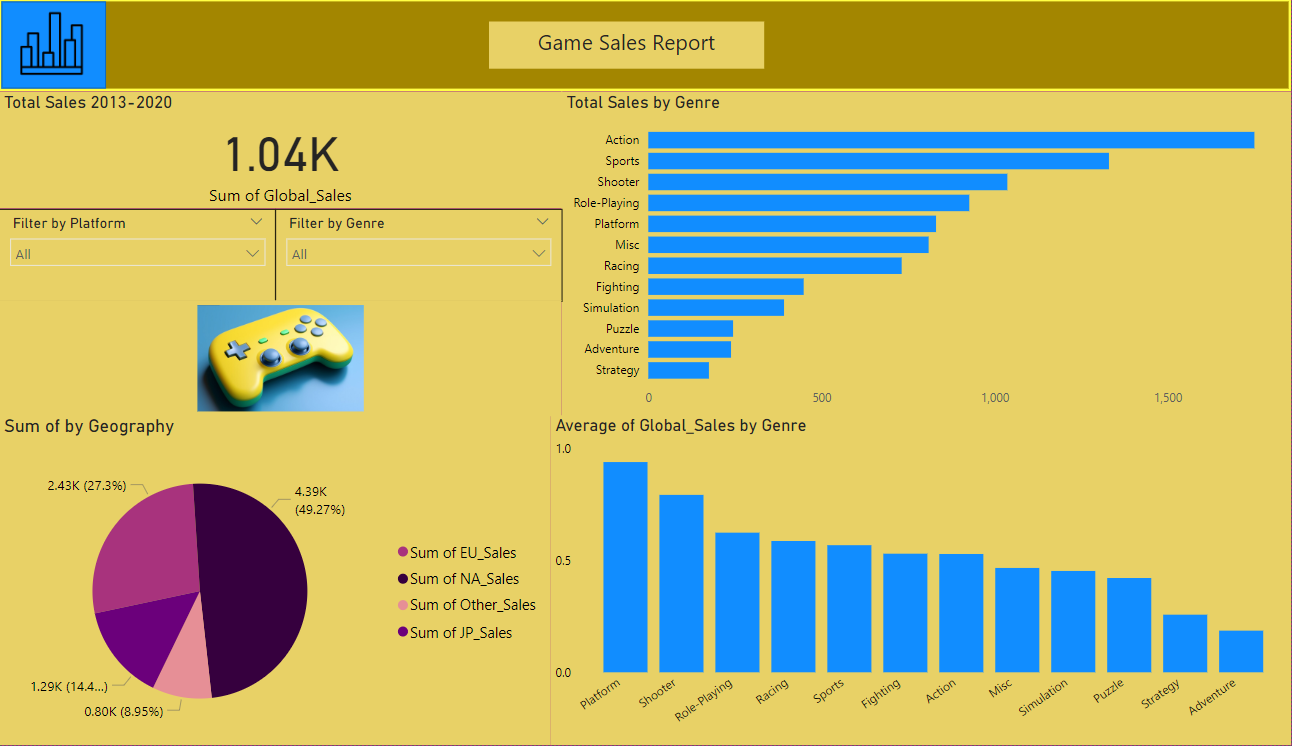

This screenshot's page, from the dashboard's own definition file:
{"tool":"powerbi","page":{"name":"GameWorld","canvas":[1292,746],"ordinal":0},"visuals":[{"type":"textbox","box":[0,0,1292.2,91.9],"z":0},{"type":"shape","box":[2,2,104.5,87],"z":1000},{"type":"image","box":[0,5.9,104.5,77.5],"z":2000},{"type":"textbox","box":[489.8,22.3,274.9,47],"z":3000},{"type":"clusteredBarChart","title":" Total Sales by Genre","fields":{"Category":["Sheet1.Genre"],"Y":["Sum(Sheet1.Global_Sales)"]},"box":[562.5,92.5,730,325],"z":4000},{"type":"card","title":"Total Sales 2013-2020","fields":{"Values":["Sum(Sheet1.Global_Sales)"]},"box":[0,93.1,563.1,116.6],"z":5000},{"type":"pieChart","title":"Sum of by Geography","fields":{"Y":["Sum(Sheet1.EU_Sales)","Sum(Sheet1.NA_Sales)","Sum(Sheet1.Other_Sales)","Sum(Sheet1.JP_Sales)"]},"box":[0,416.2,551.2,331.2],"z":6000},{"type":"clusteredColumnChart","fields":{"Category":["Films.Genre"],"Y":["Avg(Films.Global_Sales)"]},"box":[551.2,416.2,741.2,331.2],"z":7000},{"type":"slicer","fields":{"Values":["Films.Genre"]},"box":[276,210,287,93],"z":8000},{"type":"slicer","fields":{"Values":["Films.Platform"]},"box":[0,210,277,93],"z":9000},{"type":"image","box":[0,301.2,562.5,116.2],"z":10000}]}

Visuals, with their boxes in screenshot pixels (x1, y1, x2, y2), scaled from the page's 1292x746 canvas onto the 1292x746 screenshot:
textbox: [x1=0, y1=0, x2=1291, y2=92]
shape: [x1=2, y1=2, x2=106, y2=89]
image: [x1=0, y1=6, x2=104, y2=83]
textbox: [x1=490, y1=22, x2=765, y2=69]
" Total Sales by Genre" clusteredBarChart: [x1=562, y1=92, x2=1291, y2=418]
"Total Sales 2013-2020" card: [x1=0, y1=93, x2=563, y2=210]
"Sum of by Geography" pieChart: [x1=0, y1=416, x2=551, y2=745]
clusteredColumnChart - Films.Genre x Avg(Films.Global_Sales): [x1=551, y1=416, x2=1291, y2=745]
slicer - Films.Genre: [x1=276, y1=210, x2=563, y2=303]
slicer - Films.Platform: [x1=0, y1=210, x2=277, y2=303]
image: [x1=0, y1=301, x2=562, y2=417]
